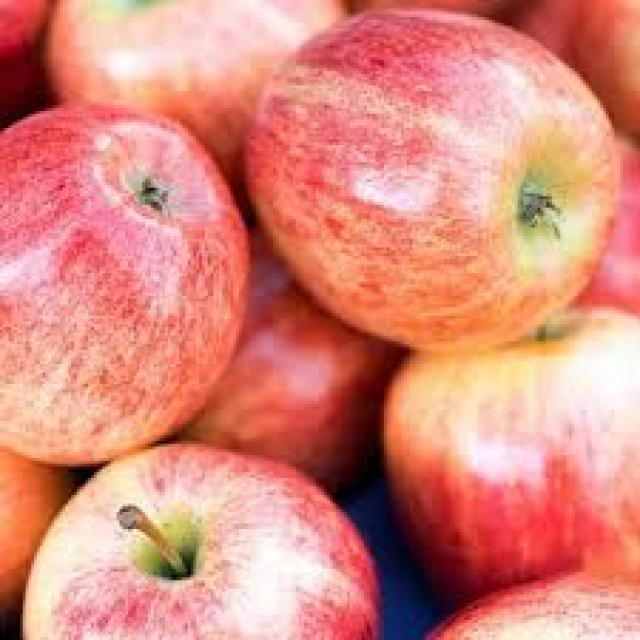Apple: (242, 6, 620, 350), (0, 99, 250, 466), (378, 307, 637, 606), (17, 438, 381, 637), (176, 224, 386, 500), (38, 2, 344, 183)
